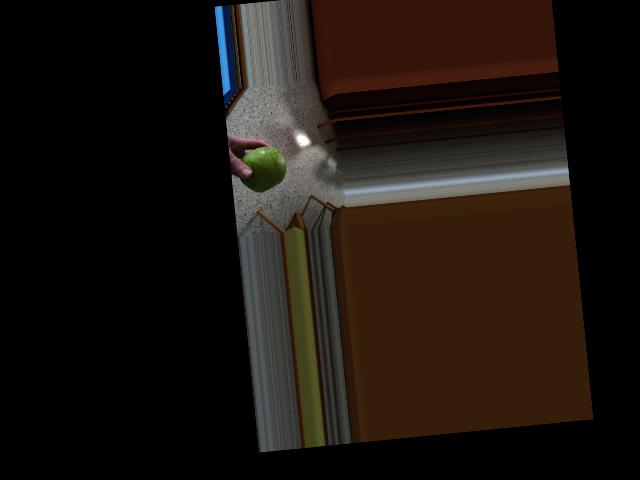apple: (235, 141, 290, 197)
